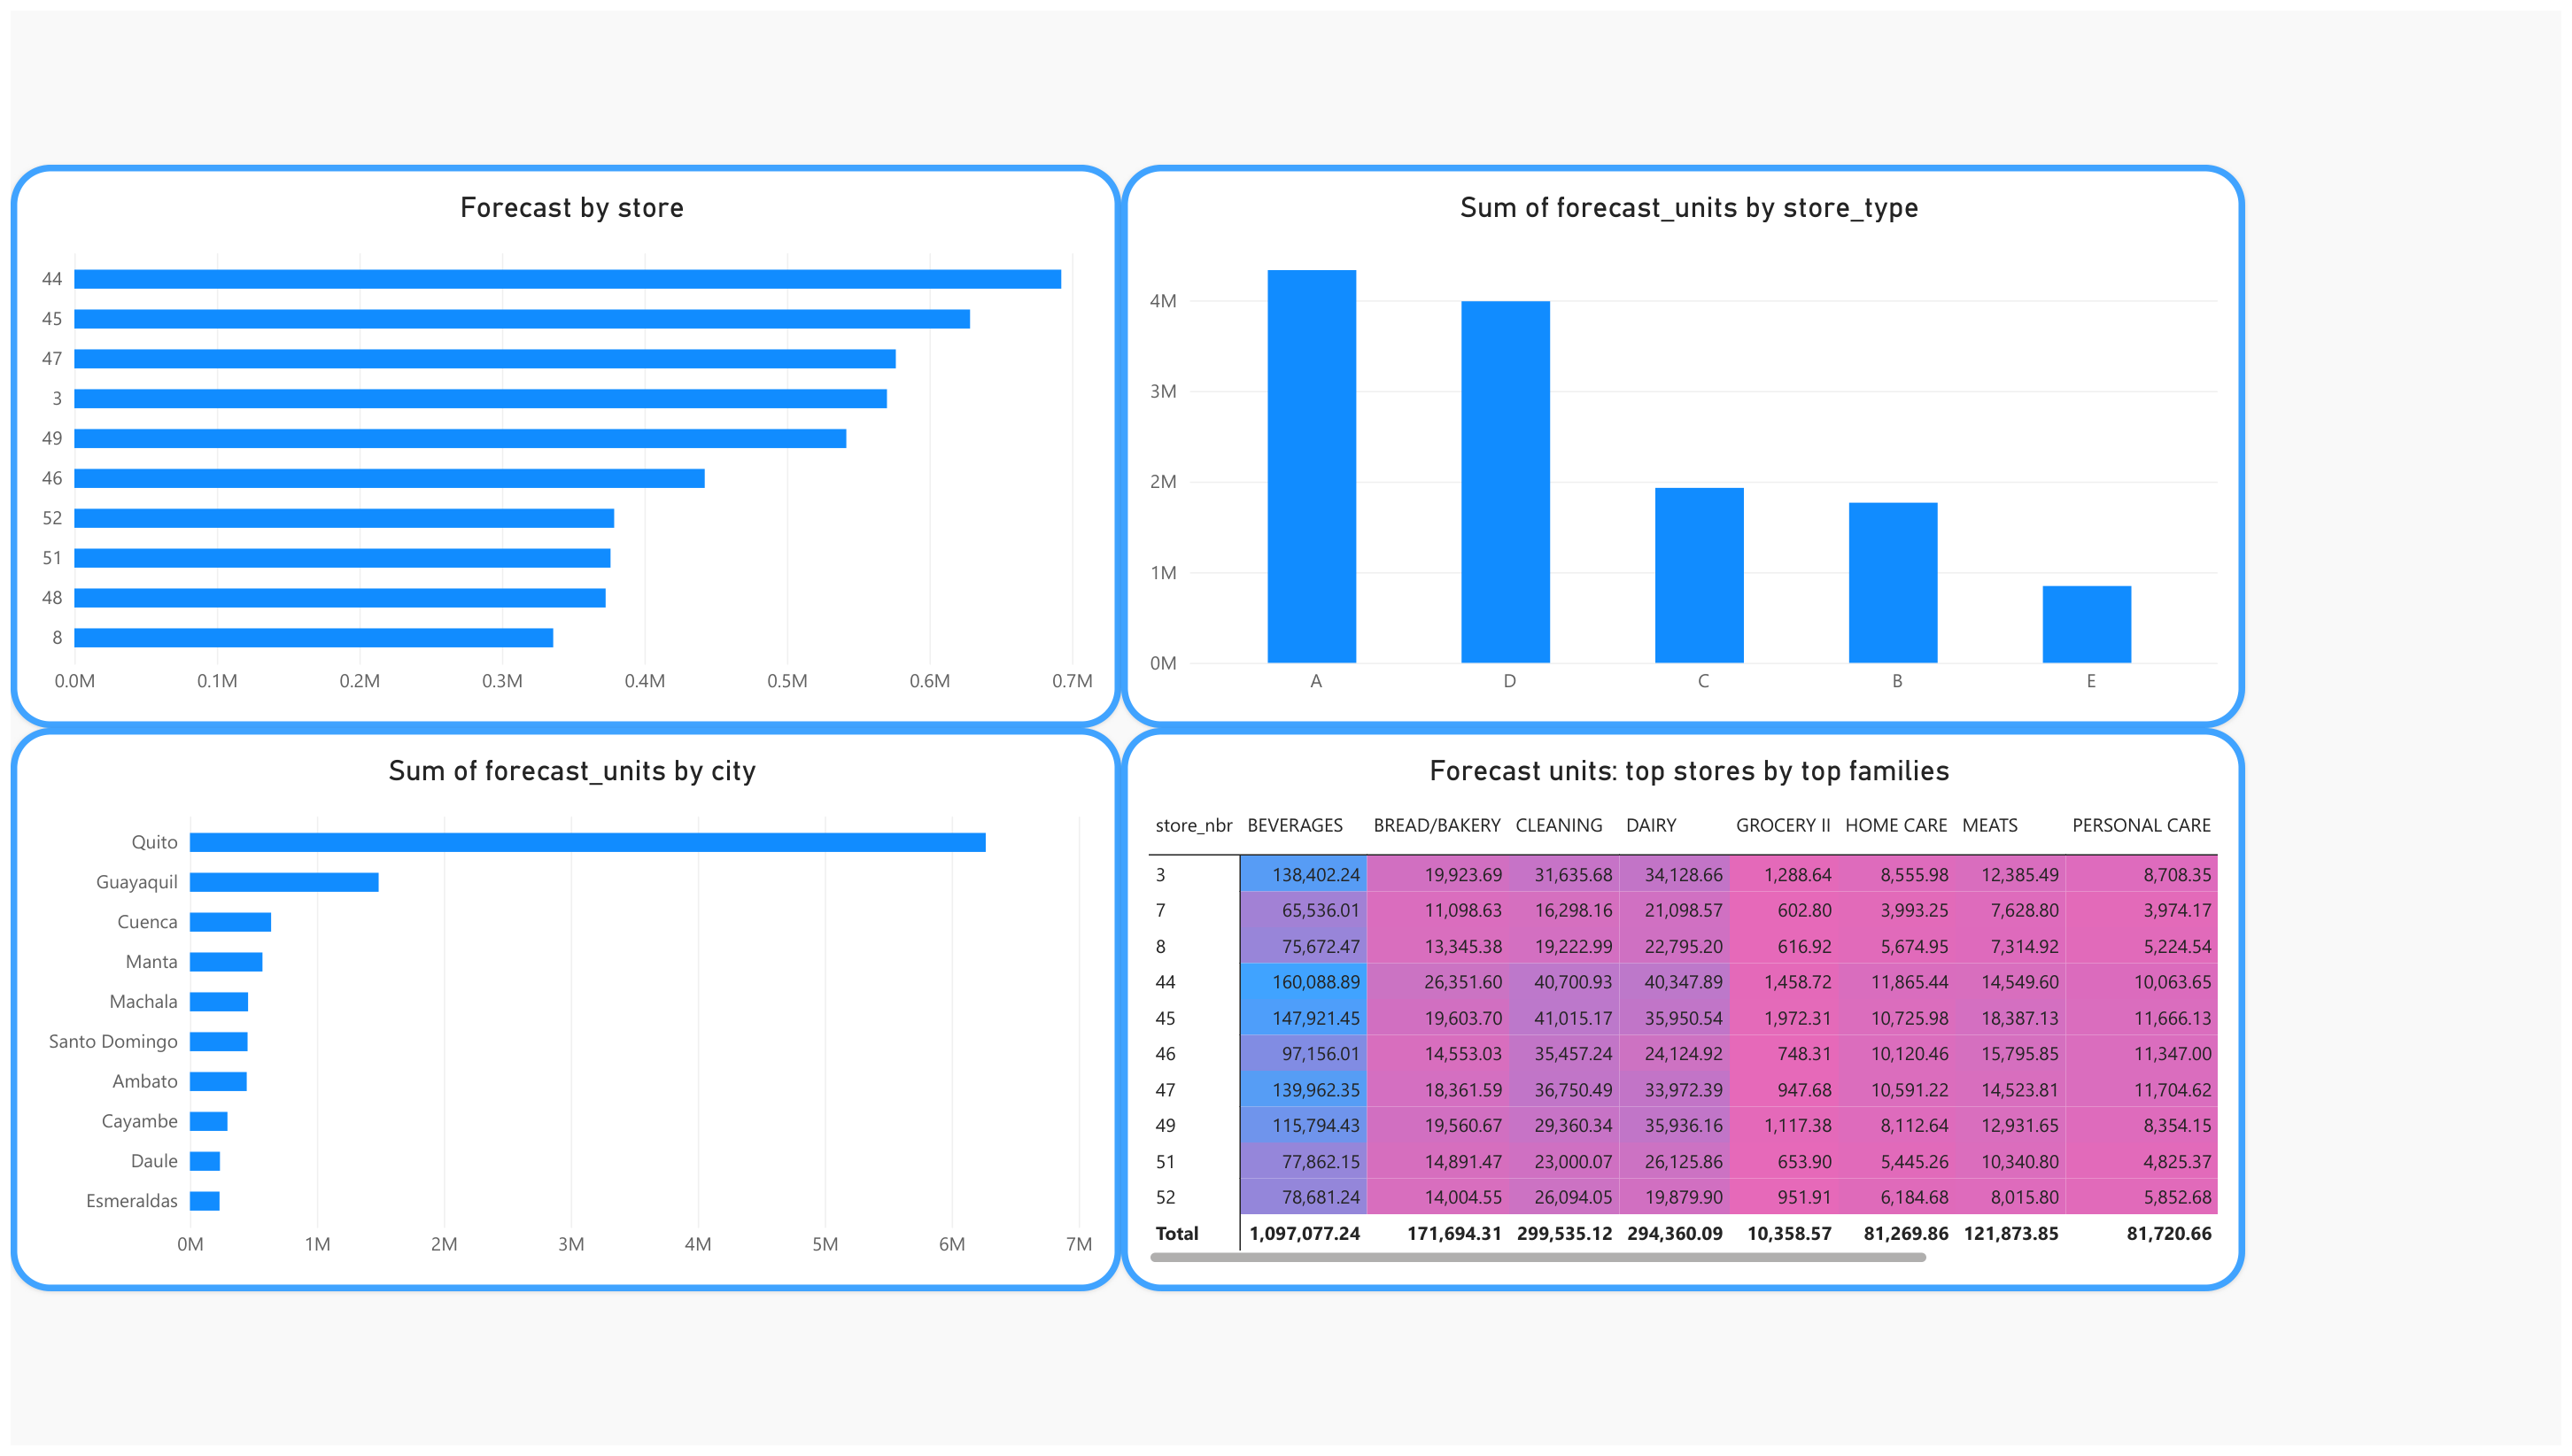

The dashboard page shown, as its layout file describes it:
{"tool":"powerbi","page":{"name":"Page 2","canvas":[1920,1080],"ordinal":1},"visuals":[{"type":"clusteredBarChart","title":"Forecast by store","fields":{"Category":["powerbi_sales_forecast.store_nbr"],"Y":["Sum(powerbi_sales_forecast.forecast_units)"]},"box":[0,116,836,424],"z":0},{"type":"clusteredBarChart","fields":{"Category":["powerbi_sales_forecast.city"],"Y":["Sum(powerbi_sales_forecast.forecast_units)"]},"box":[0,540,836,424],"z":1},{"type":"clusteredColumnChart","fields":{"Category":["powerbi_sales_forecast.store_type"],"Y":["Sum(powerbi_sales_forecast.forecast_units)"]},"box":[836,116,846,424],"z":2},{"type":"pivotTable","title":"Forecast units: top stores by top families","fields":{"Columns":["powerbi_sales_forecast.family"],"Rows":["powerbi_sales_forecast.store_nbr"],"Values":["Sum(powerbi_sales_forecast.forecast_units)"]},"box":[836,540,846,424],"z":3}]}

Visuals, with their boxes in screenshot pixels (x1, y1, x2, y2), scaled from the page's 1920x1080 canvas onto the 2572x1456 screenshot:
"Forecast by store" clusteredBarChart: (left=0, top=157, right=1119, bottom=728)
clusteredBarChart - powerbi_sales_forecast.city x Sum(powerbi_sales_forecast.forecast_units): (left=0, top=728, right=1119, bottom=1299)
clusteredColumnChart - powerbi_sales_forecast.store_type x Sum(powerbi_sales_forecast.forecast_units): (left=1119, top=157, right=2253, bottom=728)
"Forecast units: top stores by top families" pivotTable: (left=1119, top=728, right=2253, bottom=1299)
